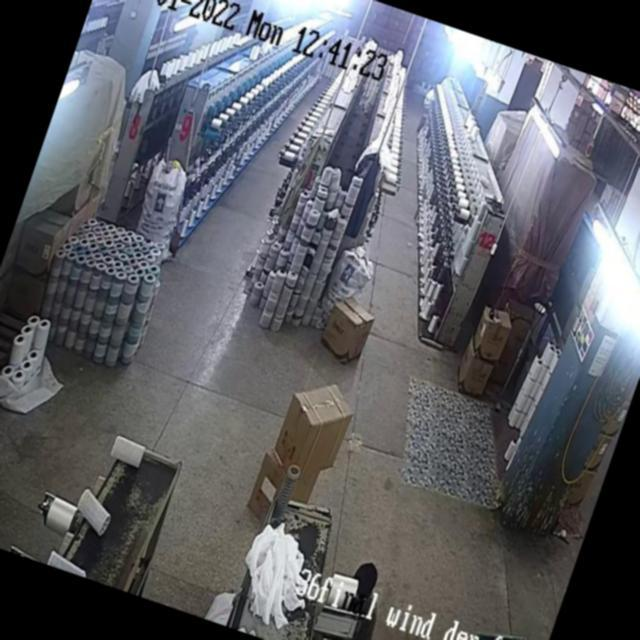person: (329, 550, 400, 640)
